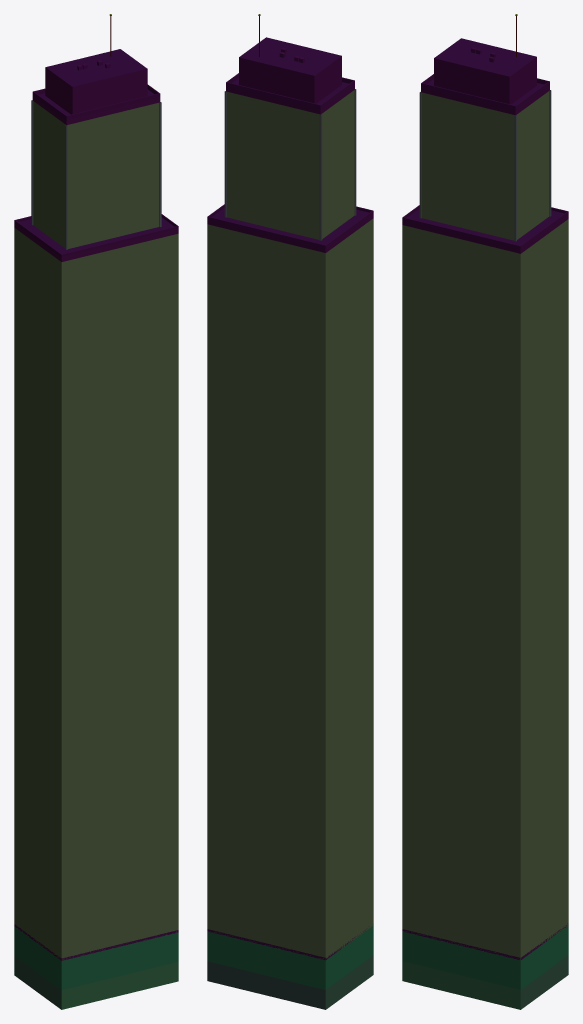
File: tower_l.glb
3 views of the same model, side by side, from view 1: azimuth 30°, elevation 25°; view 2: azimuth 150°, elevation 25°; view 3: azimuth 330°, elevation 25° (orthographic).
Parts seen in each view (by area): view 1: tower_l; view 2: tower_l; view 3: tower_l.
Part boxes in pixels (bbox=[...]): tower_l: bbox=[14, 14, 178, 1009]; tower_l: bbox=[207, 14, 373, 1009]; tower_l: bbox=[402, 14, 568, 1009].
Size of the model in its own units: 29.99 by 233 by 21.
